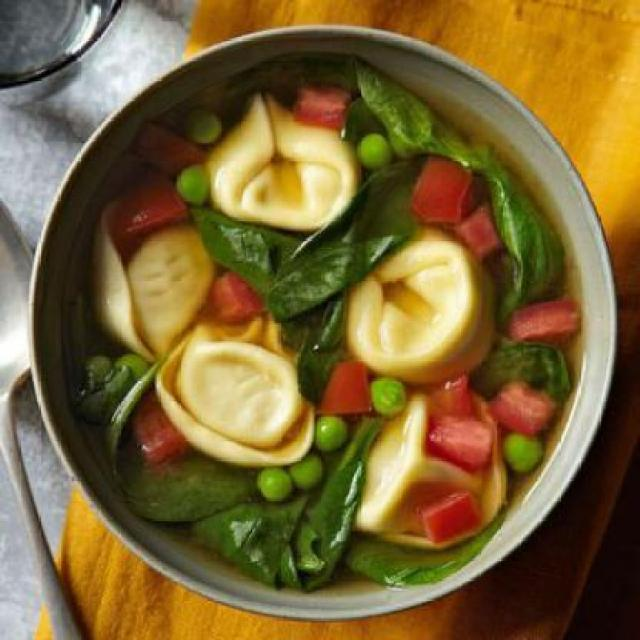Tortellini in broth: (70, 72, 538, 546)
